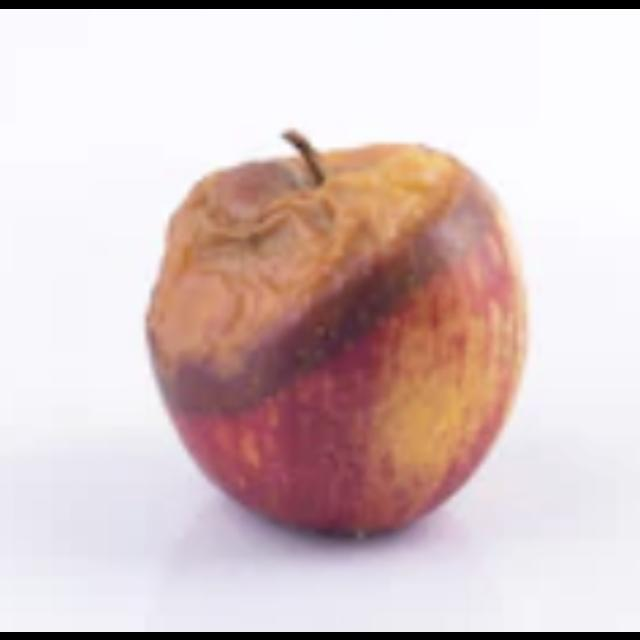Apel Tidak Segar: (141, 131, 530, 546)
